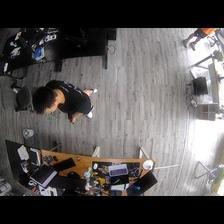normal: (33, 79, 96, 122)
